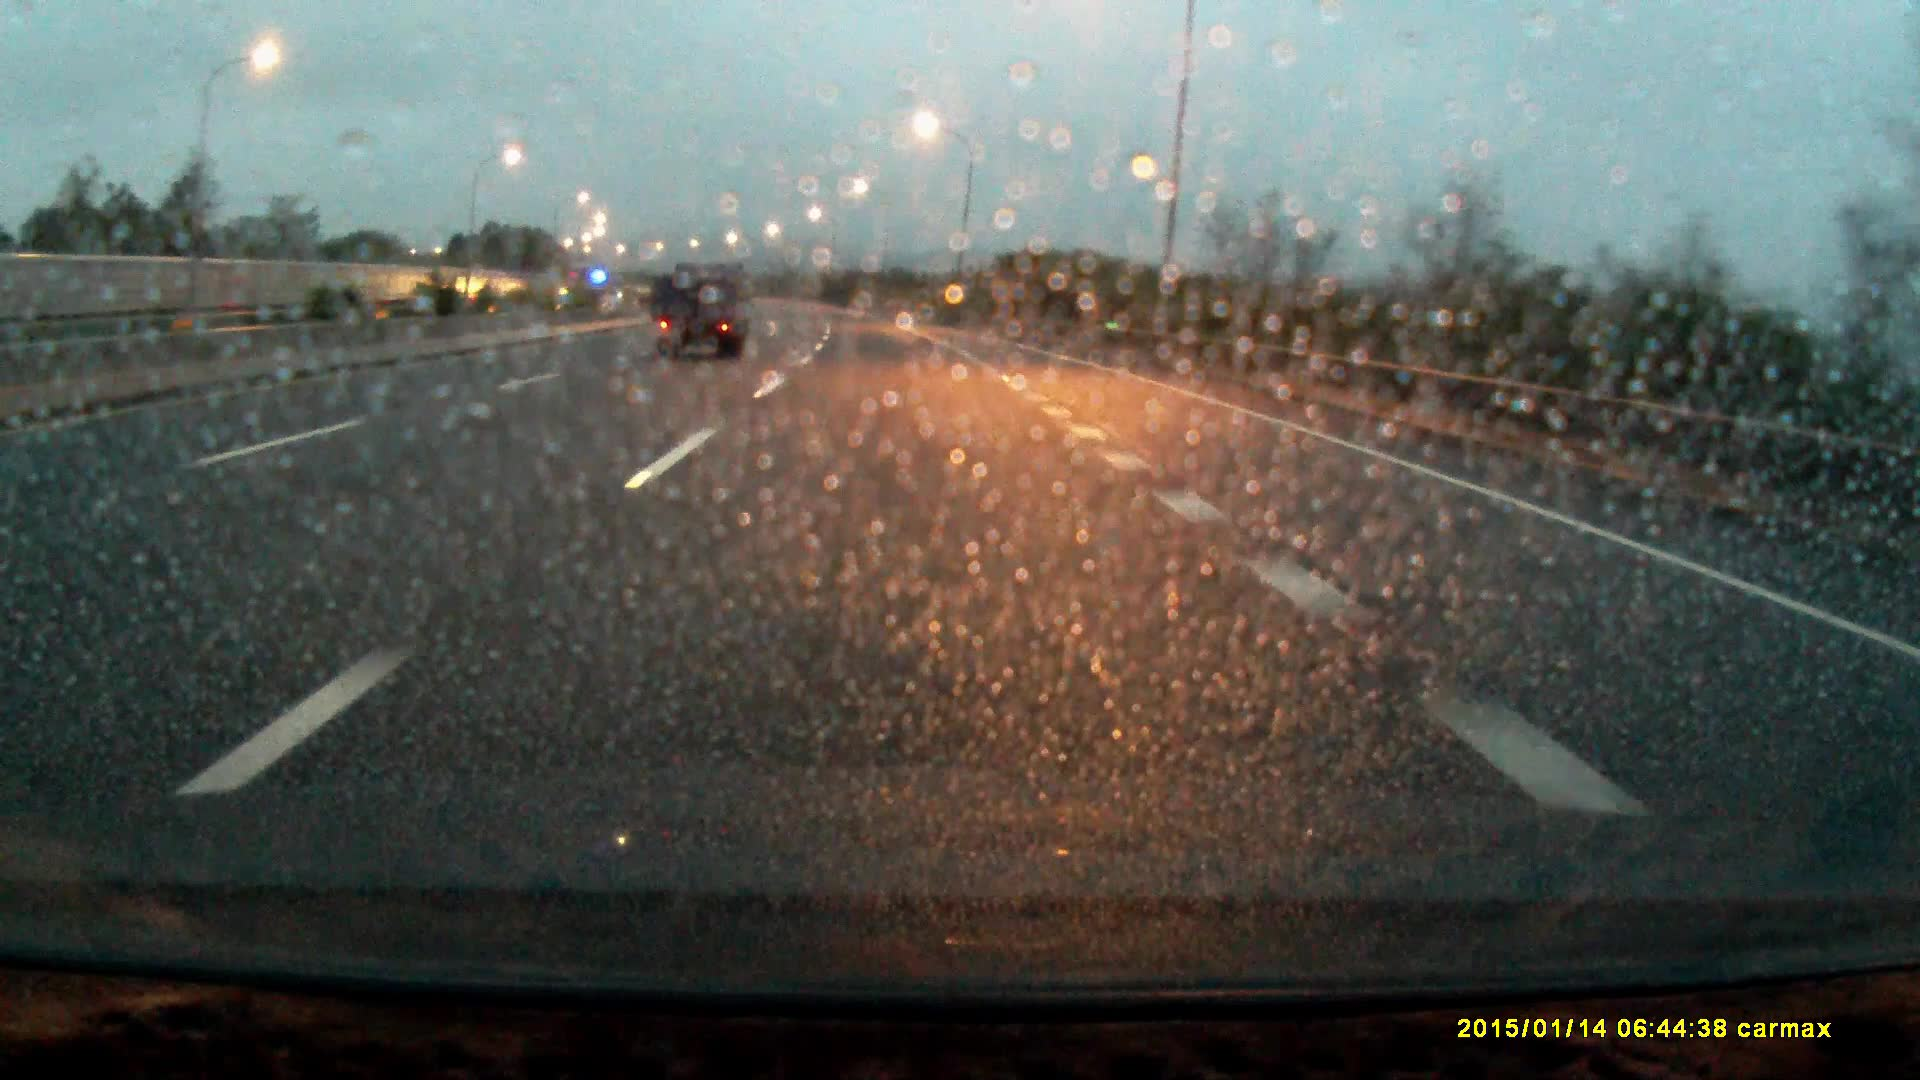vehicle: (655, 258, 752, 364)
